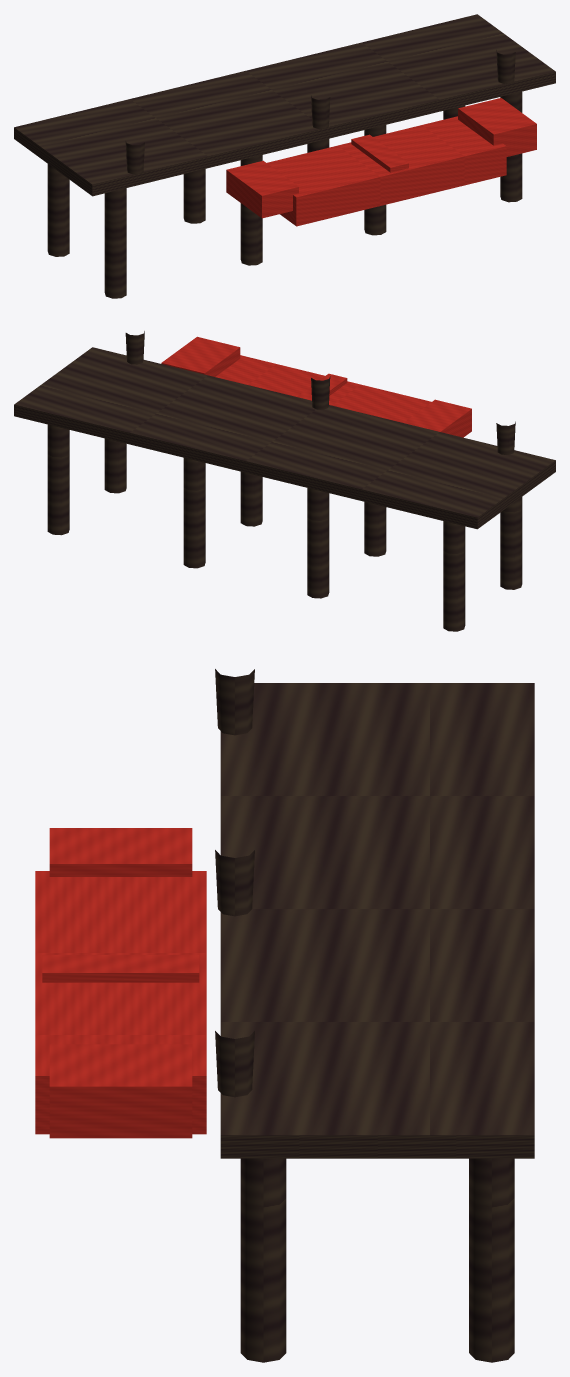
The model's file is river_dock_pier.glb.
3 views of the same model, one above another, from view 1: azimuth 30°, elevation 25°; view 2: azimuth 150°, elevation 25°; view 3: azimuth 270°, elevation 25° (orthographic). The views are drawn at different scales.
Parts seen in each view (by area): view 1: river_dock_pier; view 2: river_dock_pier; view 3: river_dock_pier.
Boxes of the visible parts, x1=… form: river_dock_pier: x1=14, y1=14, x2=555, y2=298; river_dock_pier: x1=14, y1=331, x2=555, y2=631; river_dock_pier: x1=35, y1=669, x2=534, y2=1362.
Bounding box in the file's own units: 7.5 × 2.4 × 3.5.
2 materials, 2 textured.
